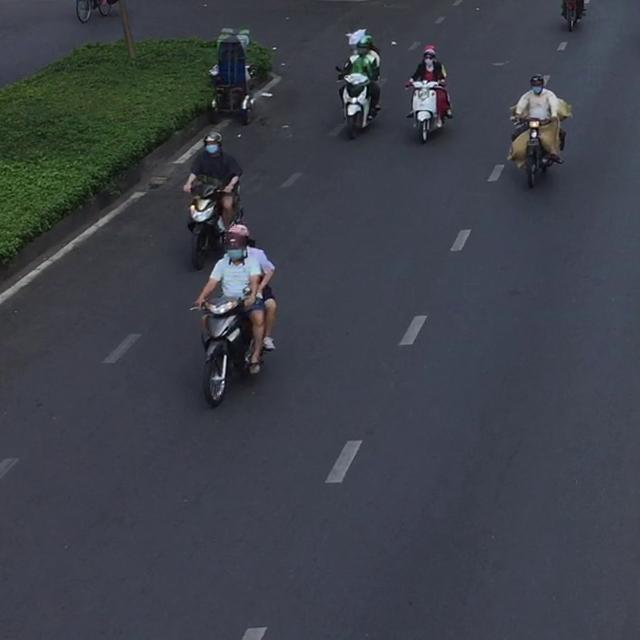Motorcycle: (189, 289, 265, 408), (184, 182, 244, 270), (507, 105, 567, 189), (334, 64, 381, 139), (404, 77, 452, 144)
